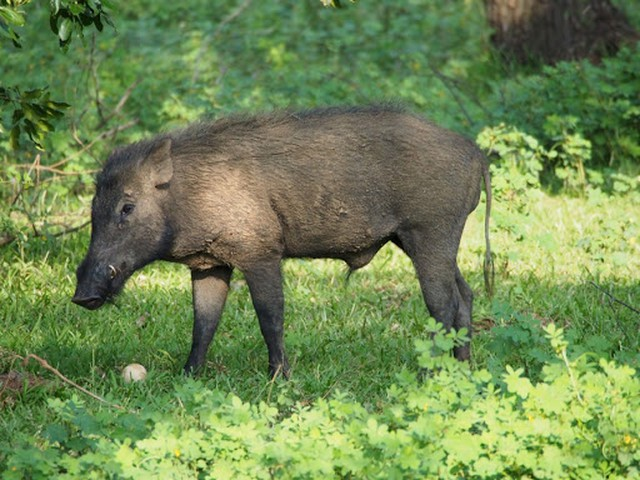Pig: (73, 102, 502, 349)
